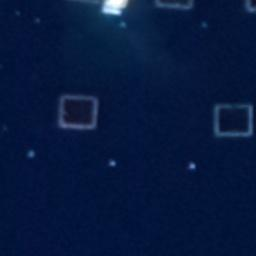square_solid: (54, 86, 105, 135), (207, 97, 256, 145)
